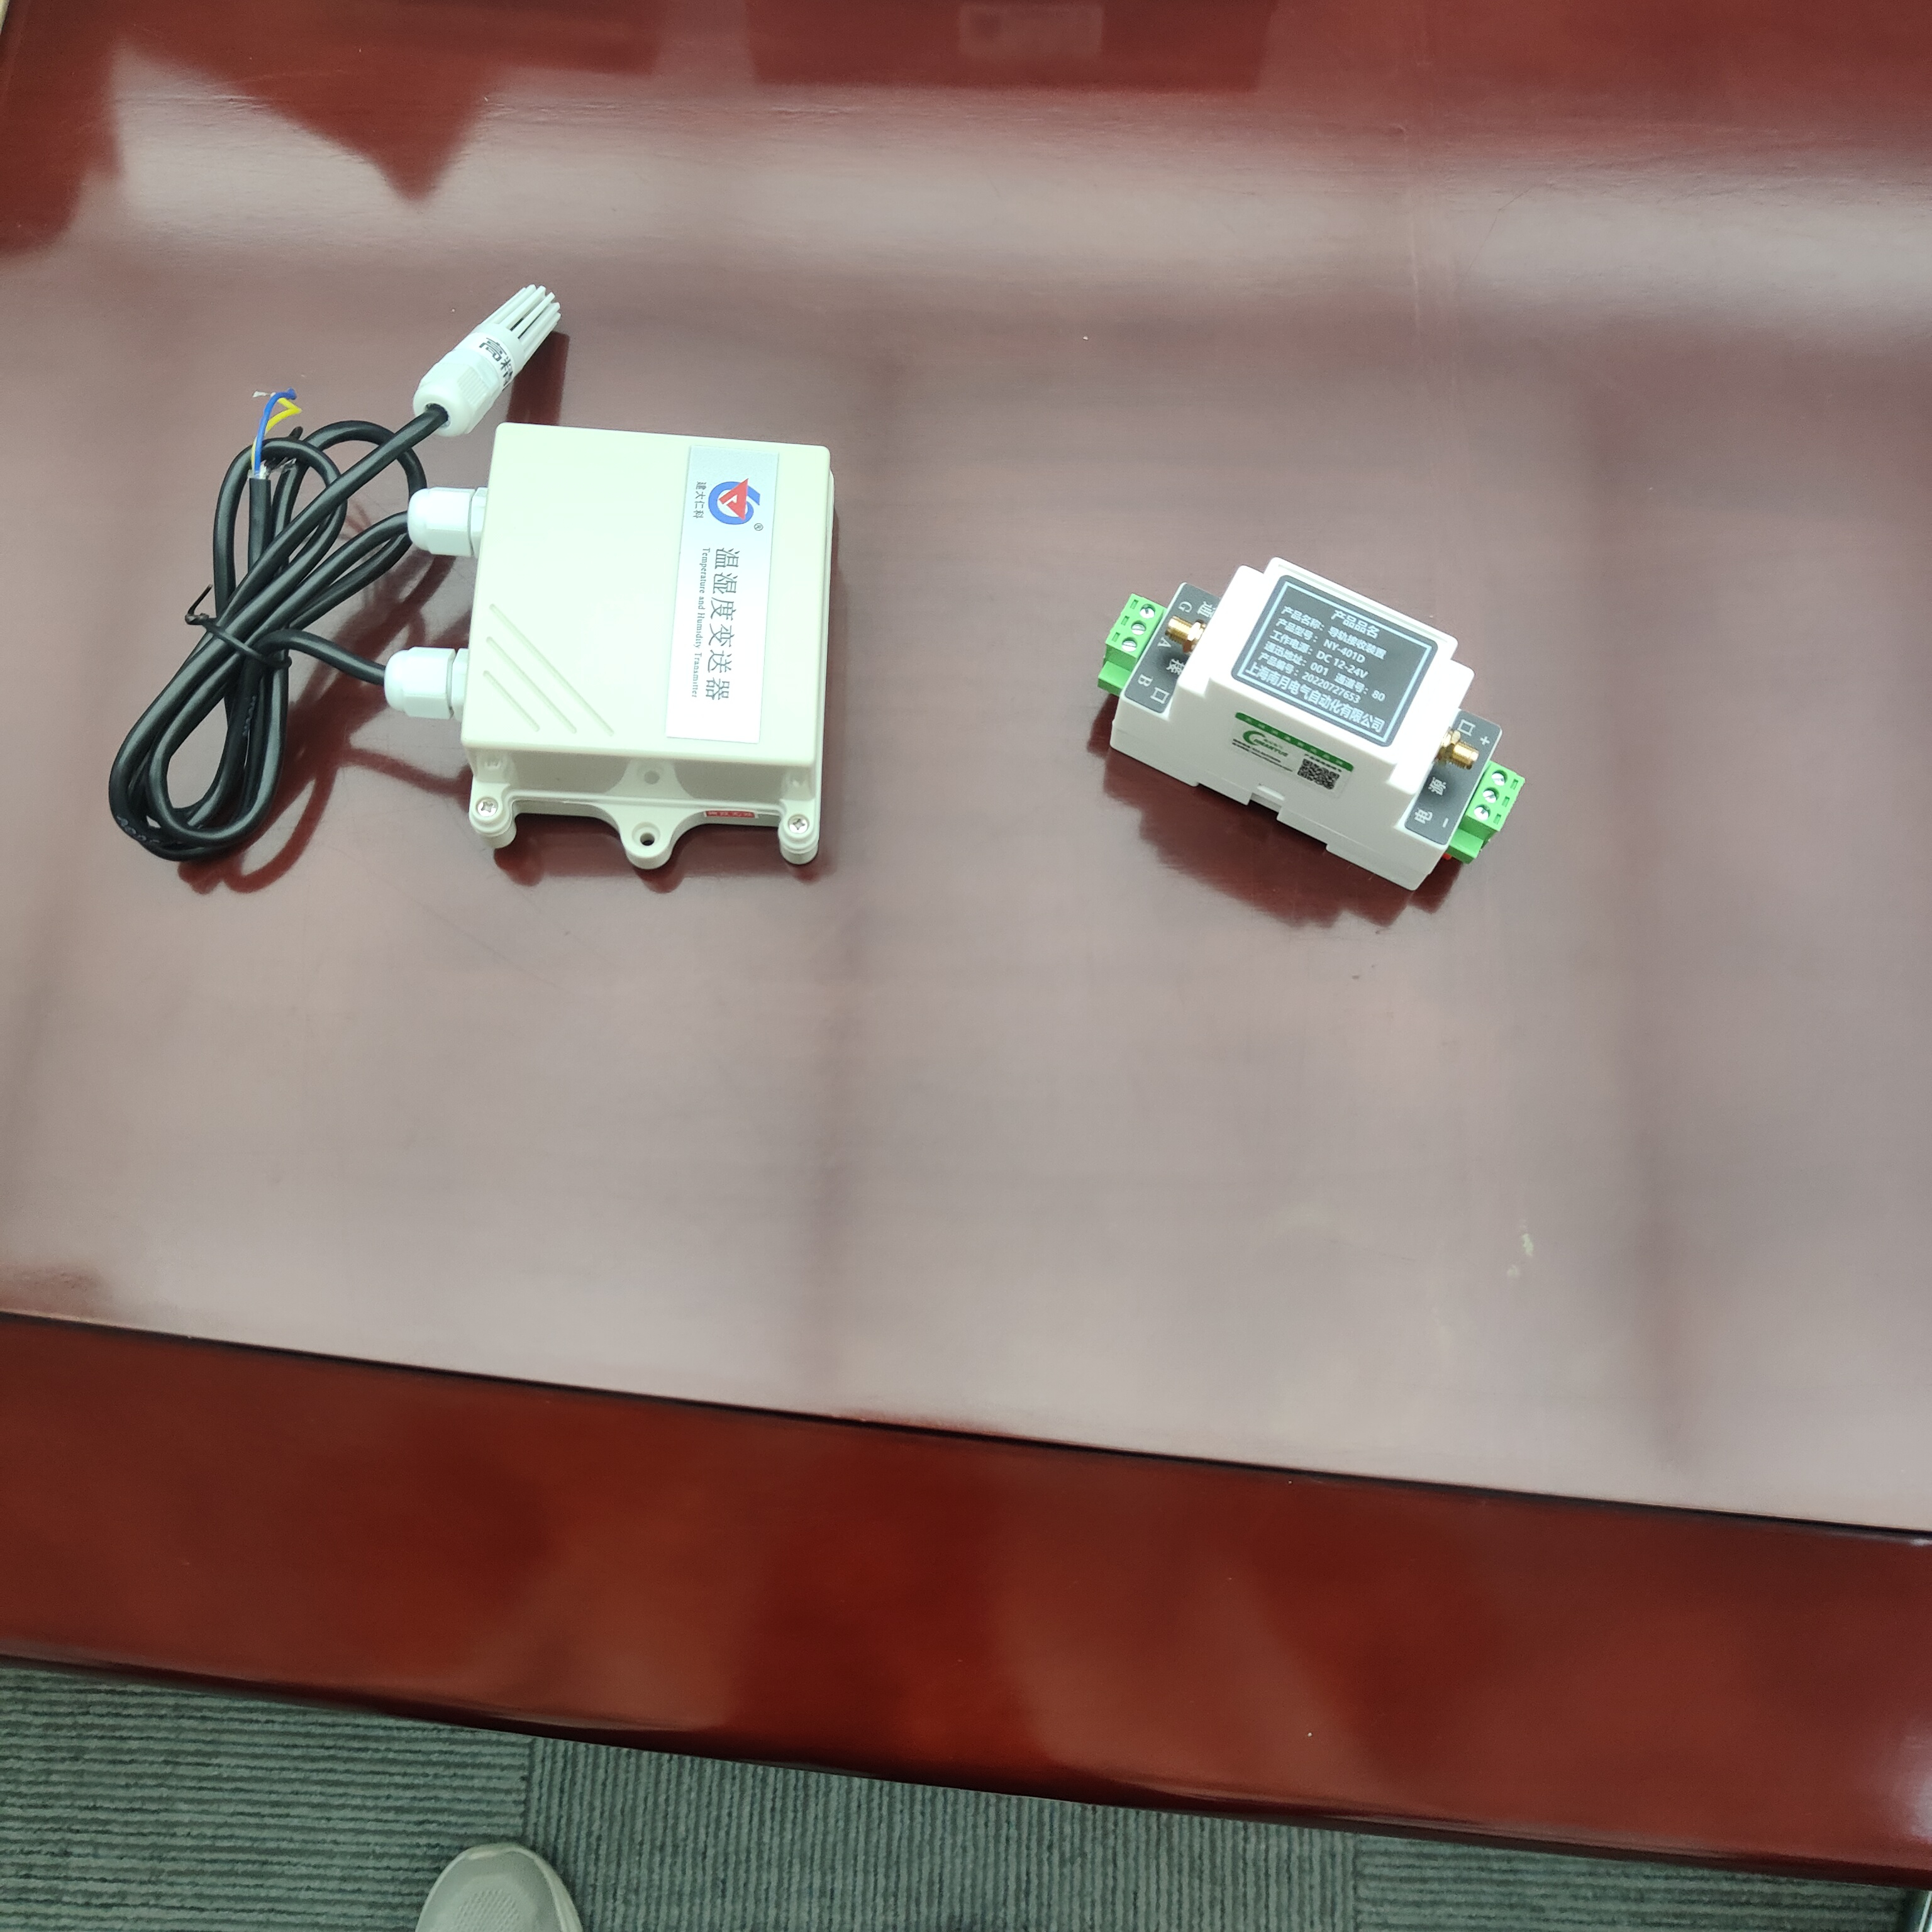dgjs: (1095, 556, 1541, 897)
wsdbsq: (414, 379, 888, 886)
